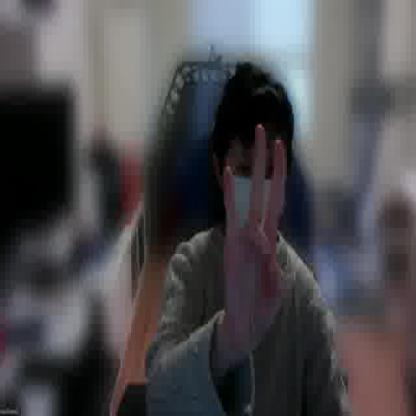seven: (219, 119, 294, 370)
